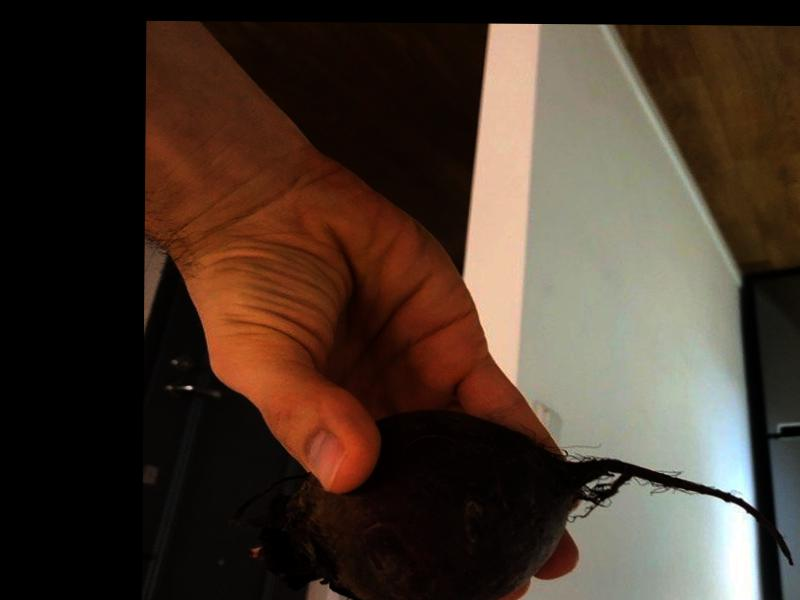Beet: (230, 412, 792, 600)
